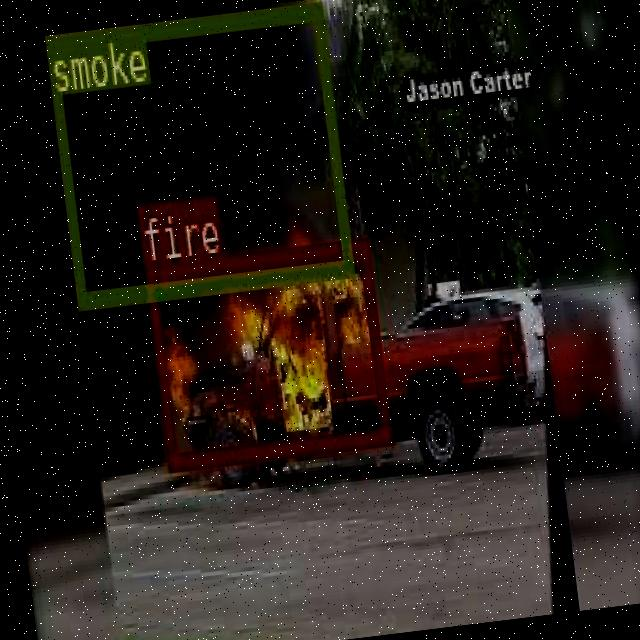fire: (142, 234, 390, 468)
smoke: (42, 0, 352, 305)
